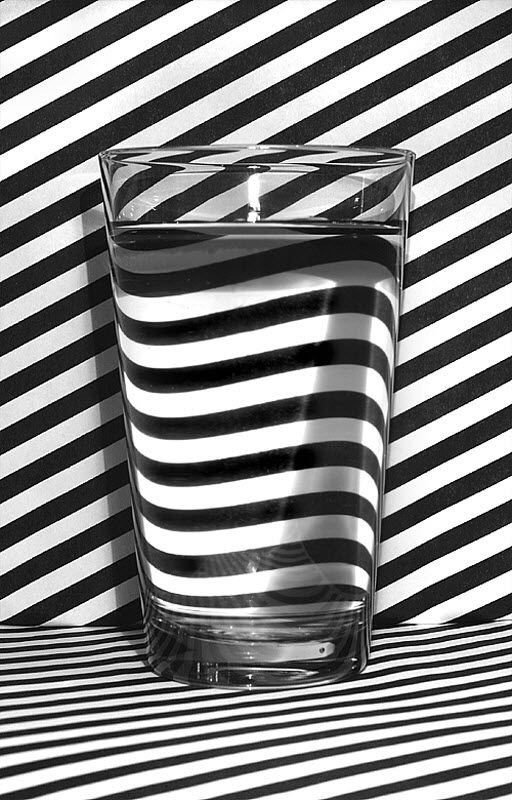glass of water: (108, 141, 408, 687)
